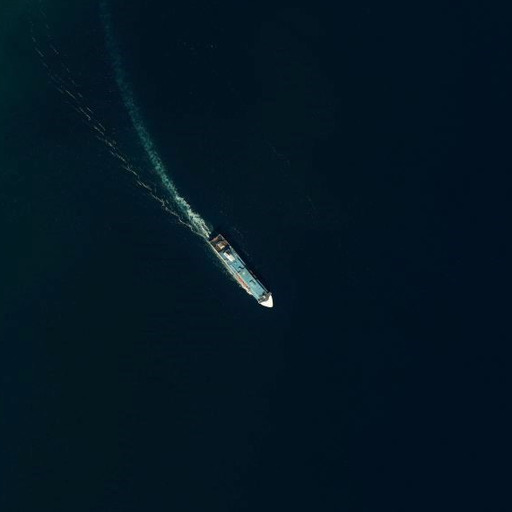ship: (207, 229, 277, 313)
